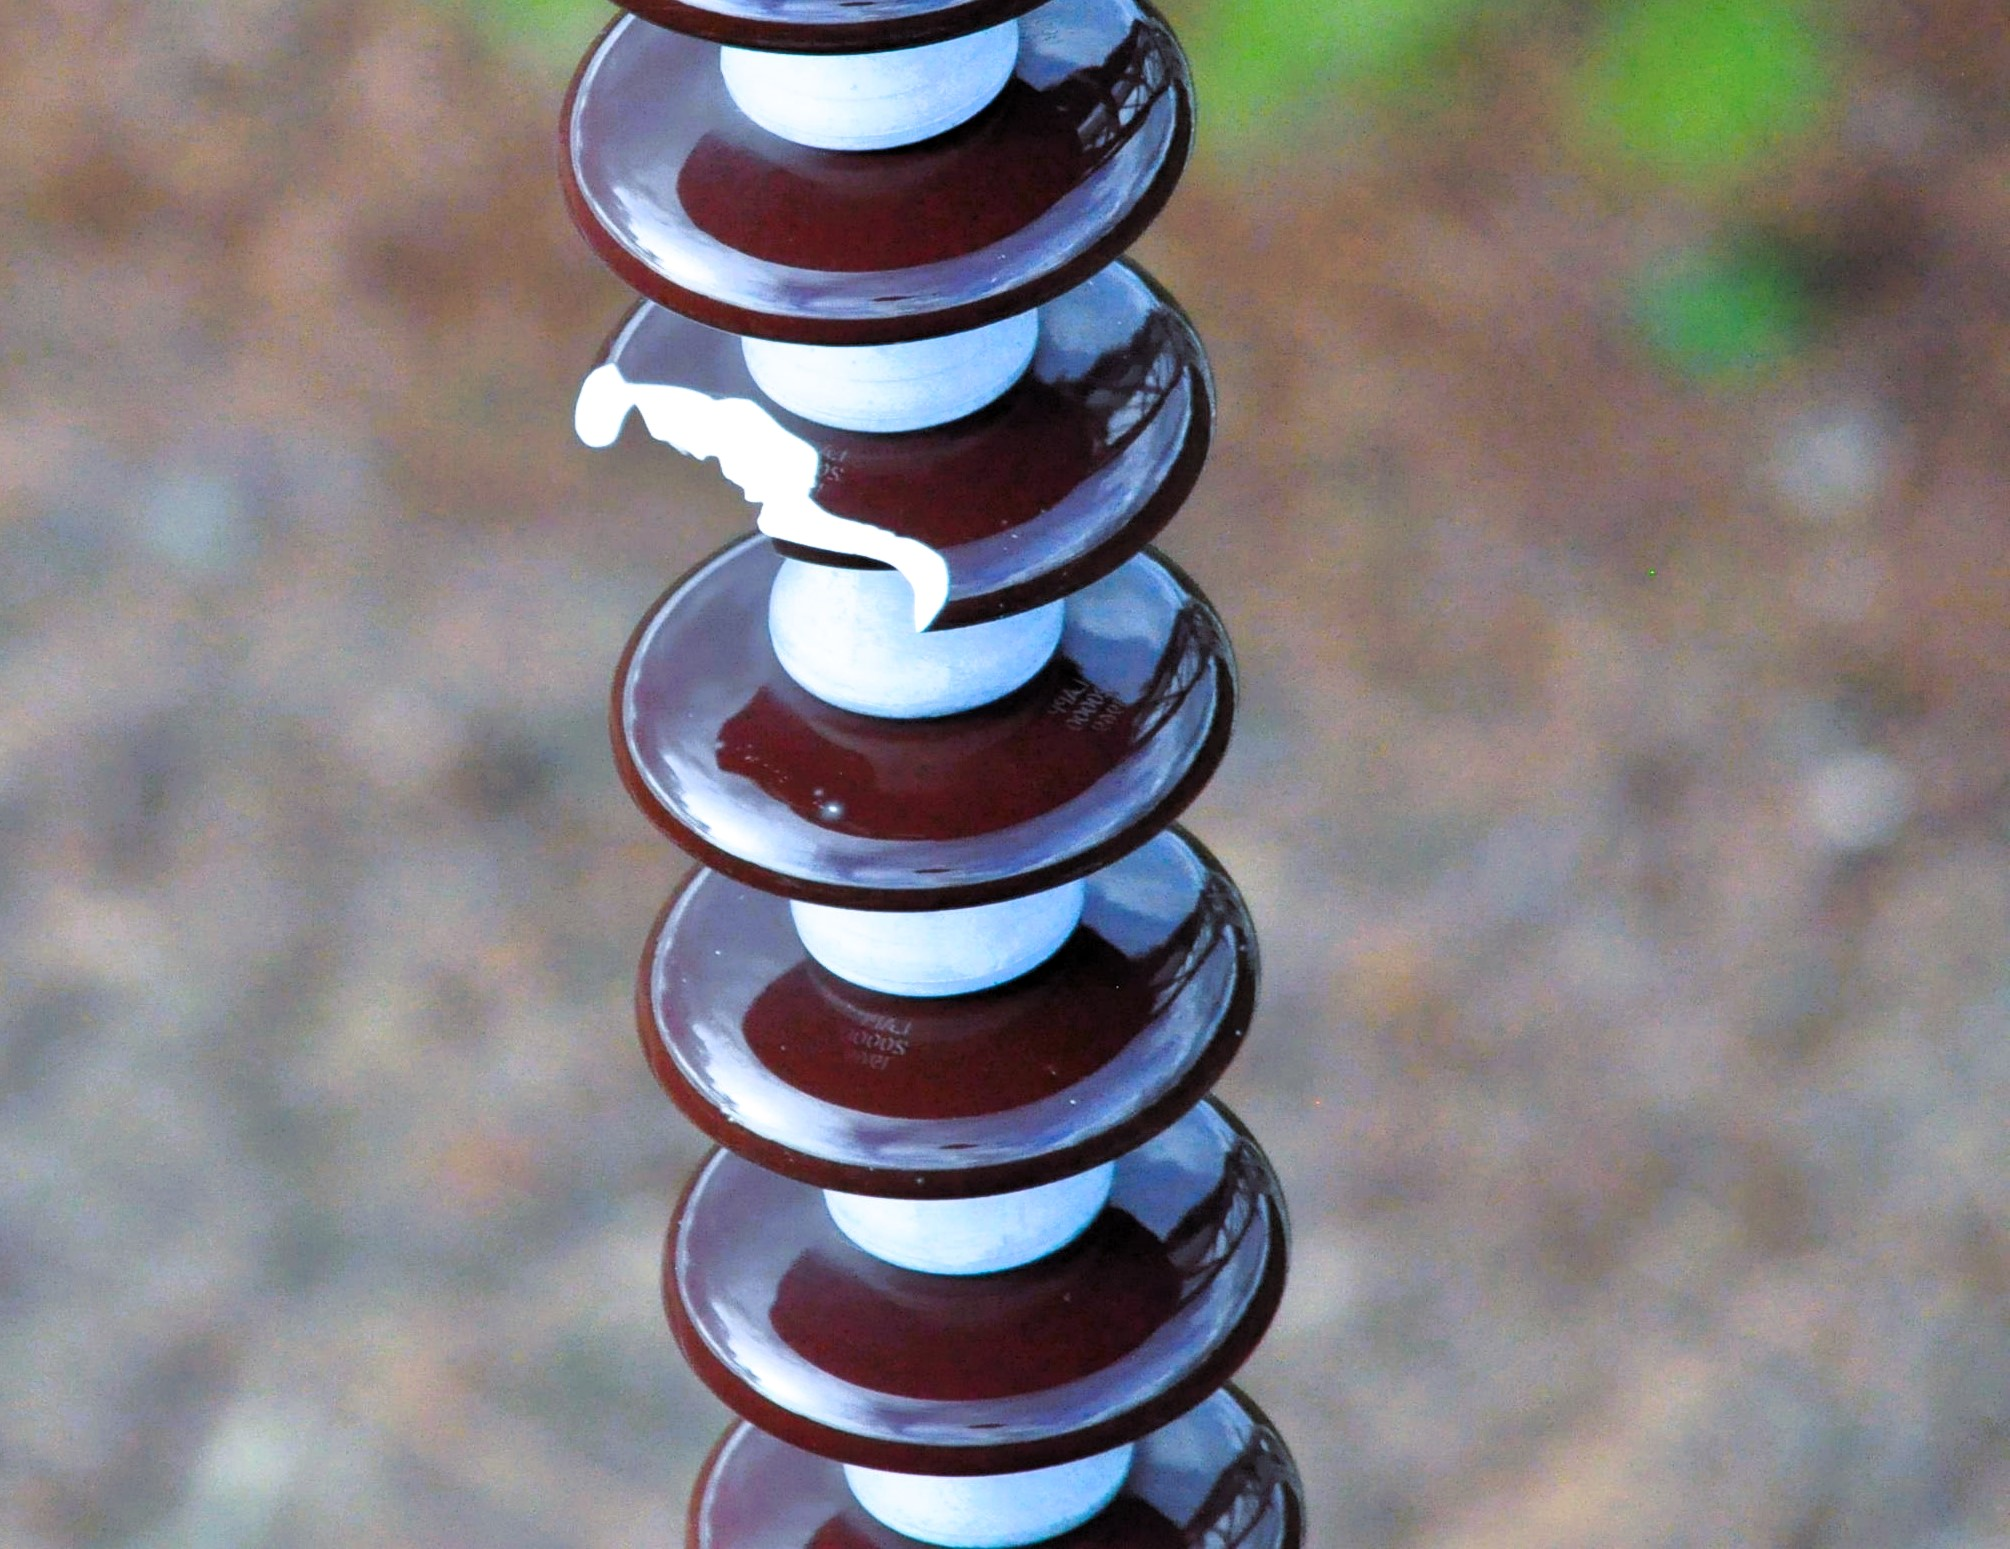insulator breakage: (540, 254, 1227, 636)
